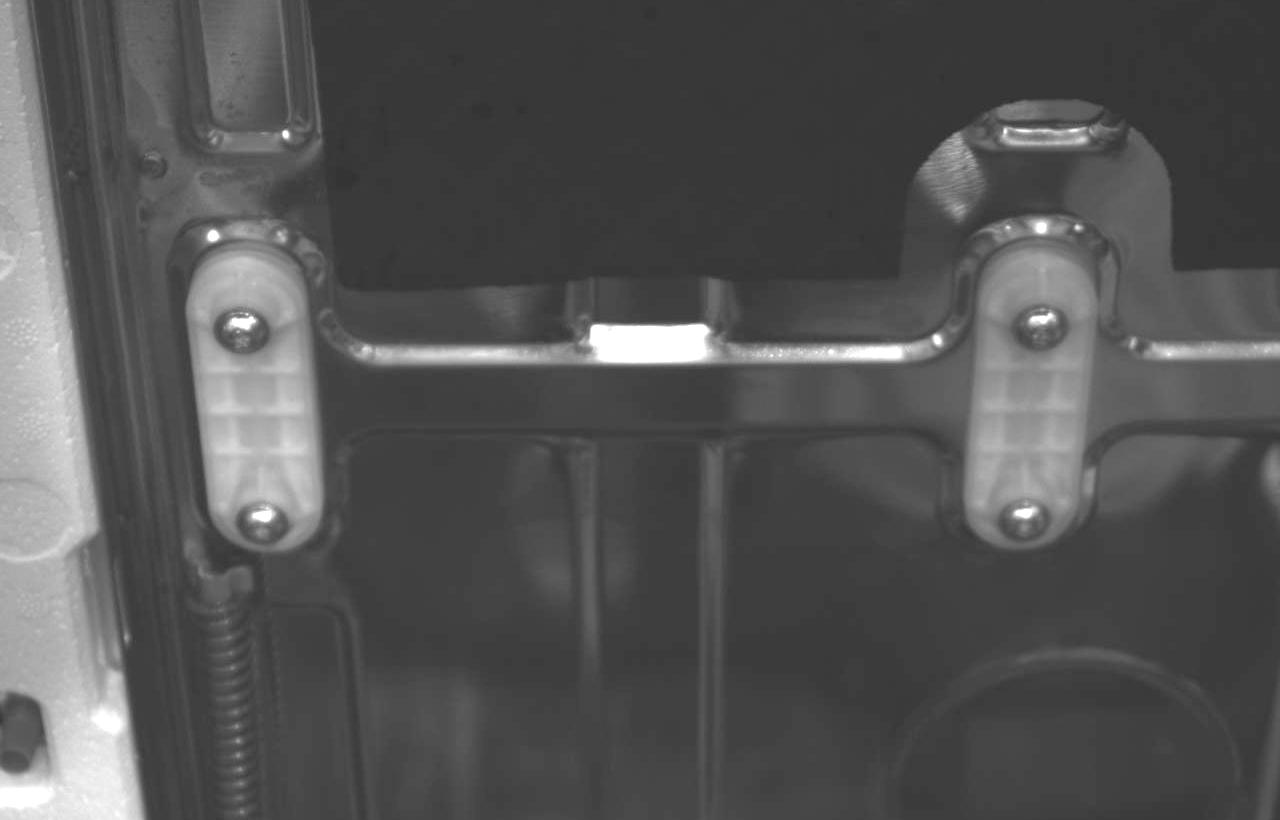vida-ok: (211, 302, 283, 369), (993, 485, 1059, 554), (1013, 291, 1080, 358), (230, 497, 296, 555)
